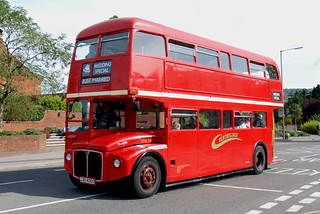bus: (64, 17, 284, 198)
